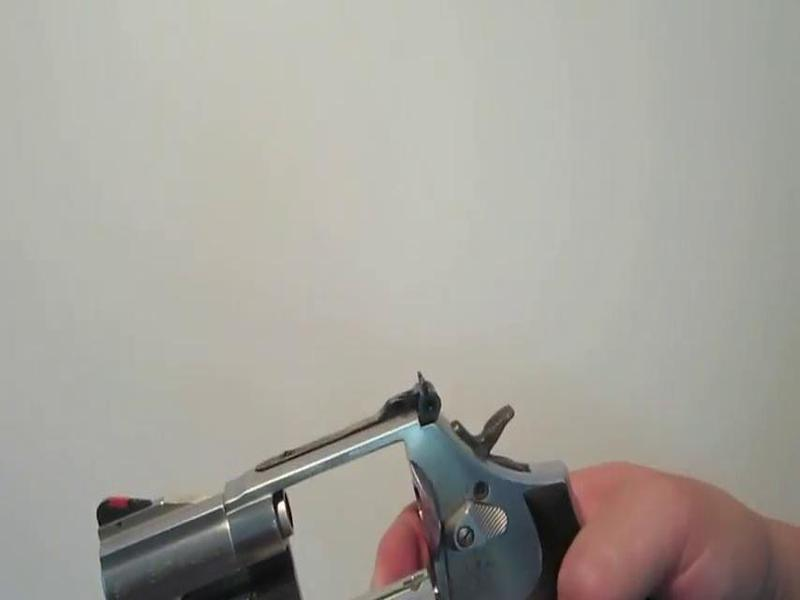Revolver: (91, 335, 612, 600)
